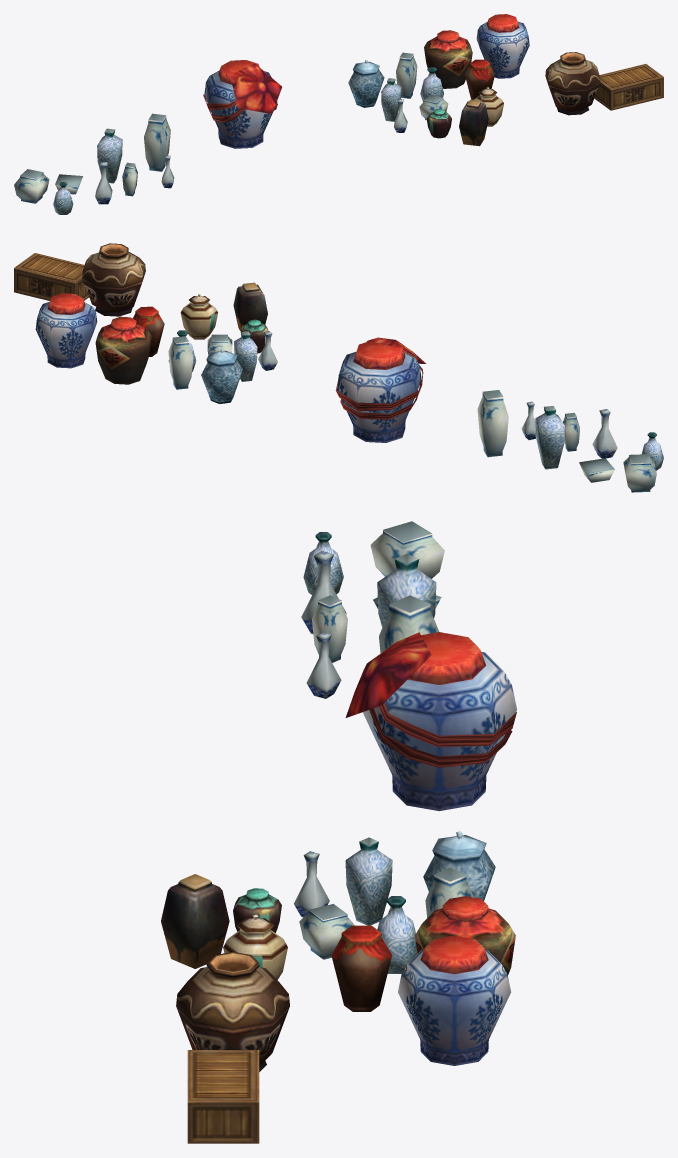
File: jiu_ping_001.FBX
3 renders of one model, top to bottom at view 1: azimuth 30°, elevation 25°; view 2: azimuth 150°, elevation 25°; view 3: azimuth 270°, elevation 25°, orthographic. The views are drawn at different scales.
Parts seen in each view (by area): view 1: jiu_ping_001_y001, jiu_ping_001_g_pt, jiu_ping_001_h001, jiu_ping_001_k001, jiu_ping_001_j001, jiu_ping_001_n004, jiu_ping_001_m001, jiu_ping_001_l001, jiu_ping_001_p003, jiu_ping_001_s005, jiu_ping_001_q001, jiu_ping_001_n003 (+9 smaller); view 2: jiu_ping_001_y001, jiu_ping_001_g_pt, jiu_ping_001_h001, jiu_ping_001_j001, jiu_ping_001_k001, jiu_ping_001_n004, jiu_ping_001_m001, jiu_ping_001_p003, jiu_ping_001_w001, jiu_ping_001_l001, jiu_ping_001_s005, jiu_ping_001_n003 (+9 smaller); view 3: jiu_ping_001_y001, jiu_ping_001_h001, jiu_ping_001_g_pt, jiu_ping_001_k001, jiu_ping_001_l001, jiu_ping_001_q001, jiu_ping_001_j001, jiu_ping_001_p002, jiu_ping_001_m001, jiu_ping_001_s005, jiu_ping_001_w001, jiu_ping_001_p003 (+10 smaller).
Part boxes in pixels (left/top/right/bottom): jiu_ping_001_y001: left=203, top=60, right=281, bottom=148; jiu_ping_001_g_pt: left=545, top=52, right=600, bottom=115; jiu_ping_001_h001: left=476, top=14, right=529, bottom=78; jiu_ping_001_k001: left=594, top=64, right=663, bottom=110; jiu_ping_001_j001: left=424, top=30, right=472, bottom=88; jiu_ping_001_n004: left=144, top=113, right=170, bottom=171; jiu_ping_001_m001: left=348, top=60, right=384, bottom=107; jiu_ping_001_l001: left=459, top=99, right=488, bottom=146; jiu_ping_001_p003: left=97, top=128, right=122, bottom=183; jiu_ping_001_s005: left=14, top=169, right=49, bottom=203; jiu_ping_001_q001: left=465, top=59, right=494, bottom=99; jiu_ping_001_n003: left=396, top=52, right=417, bottom=98; jiu_ping_001_y001: left=335, top=337, right=426, bottom=442; jiu_ping_001_g_pt: left=82, top=243, right=145, bottom=316; jiu_ping_001_h001: left=35, top=293, right=97, bottom=368; jiu_ping_001_j001: left=95, top=316, right=151, bottom=384; jiu_ping_001_k001: left=14, top=253, right=88, bottom=300; jiu_ping_001_n004: left=477, top=390, right=508, bottom=457; jiu_ping_001_m001: left=201, top=348, right=242, bottom=403; jiu_ping_001_p003: left=535, top=405, right=564, bottom=469; jiu_ping_001_w001: left=180, top=293, right=217, bottom=339; jiu_ping_001_l001: left=233, top=282, right=267, bottom=330; jiu_ping_001_s005: left=623, top=454, right=656, bottom=492; jiu_ping_001_n003: left=168, top=336, right=193, bottom=389; jiu_ping_001_y001: left=345, top=632, right=516, bottom=811; jiu_ping_001_h001: left=398, top=935, right=510, bottom=1065; jiu_ping_001_g_pt: left=176, top=952, right=289, bottom=1071; jiu_ping_001_k001: left=187, top=1050, right=259, bottom=1143; jiu_ping_001_l001: left=161, top=874, right=229, bottom=968; jiu_ping_001_q001: left=331, top=925, right=392, bottom=1011; jiu_ping_001_j001: left=415, top=896, right=515, bottom=975; jiu_ping_001_p002: left=345, top=837, right=392, bottom=925; jiu_ping_001_m001: left=423, top=831, right=495, bottom=900; jiu_ping_001_s005: left=370, top=521, right=444, bottom=578; jiu_ping_001_w001: left=223, top=914, right=287, bottom=979; jiu_ping_001_p003: left=377, top=554, right=436, bottom=627.
Size of the model in its own units: 908 by 111 by 236.
